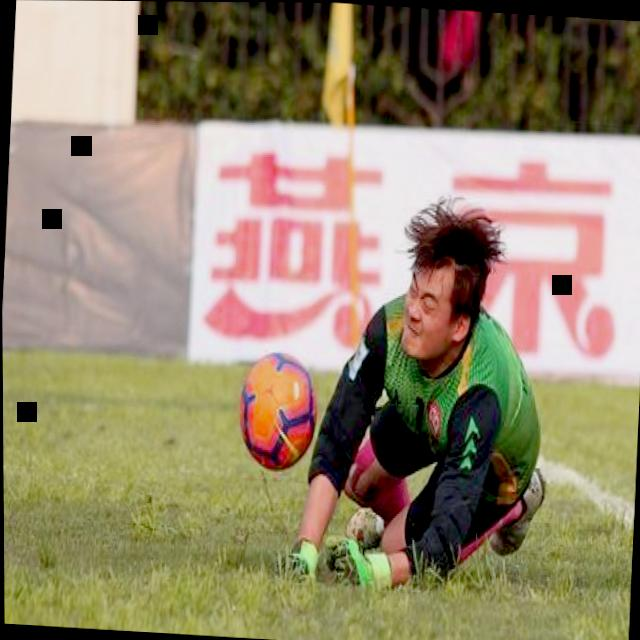Fall-Detected: (268, 171, 561, 615)
